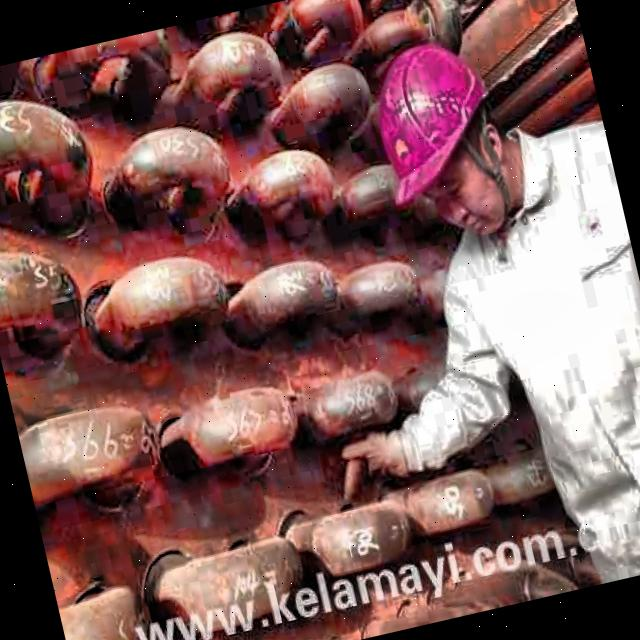helmet: (343, 10, 539, 266)
